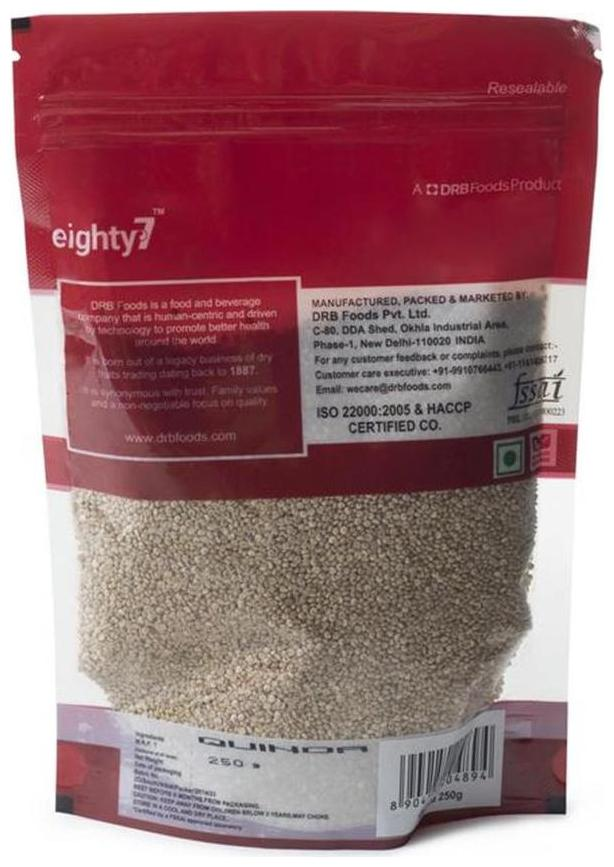fssai: (508, 371, 565, 408)
